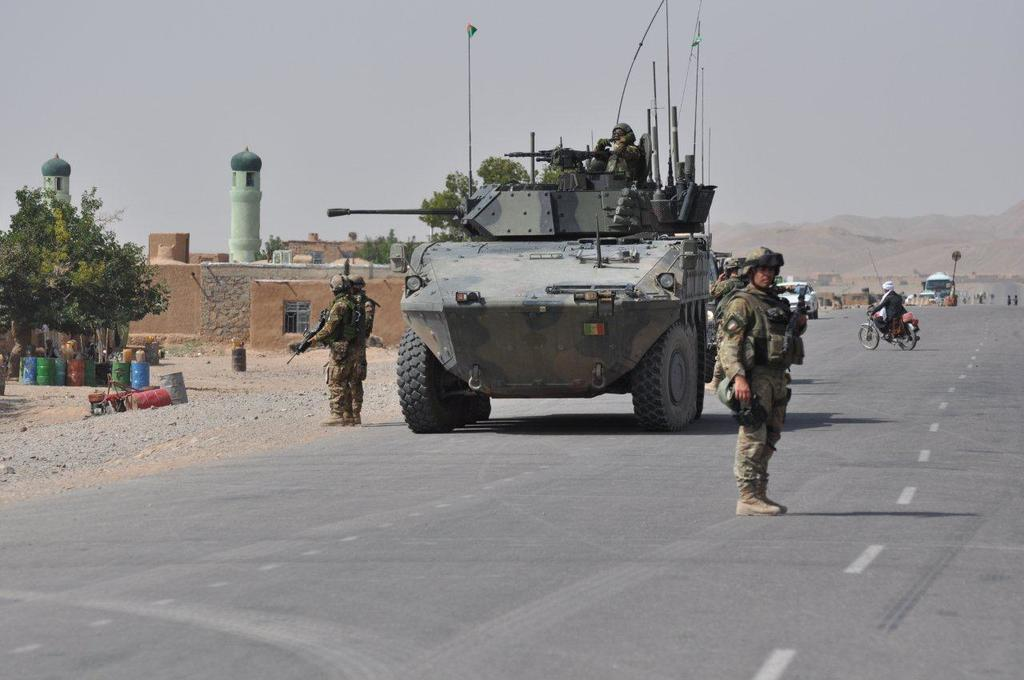Tank: (326, 0, 722, 434)
